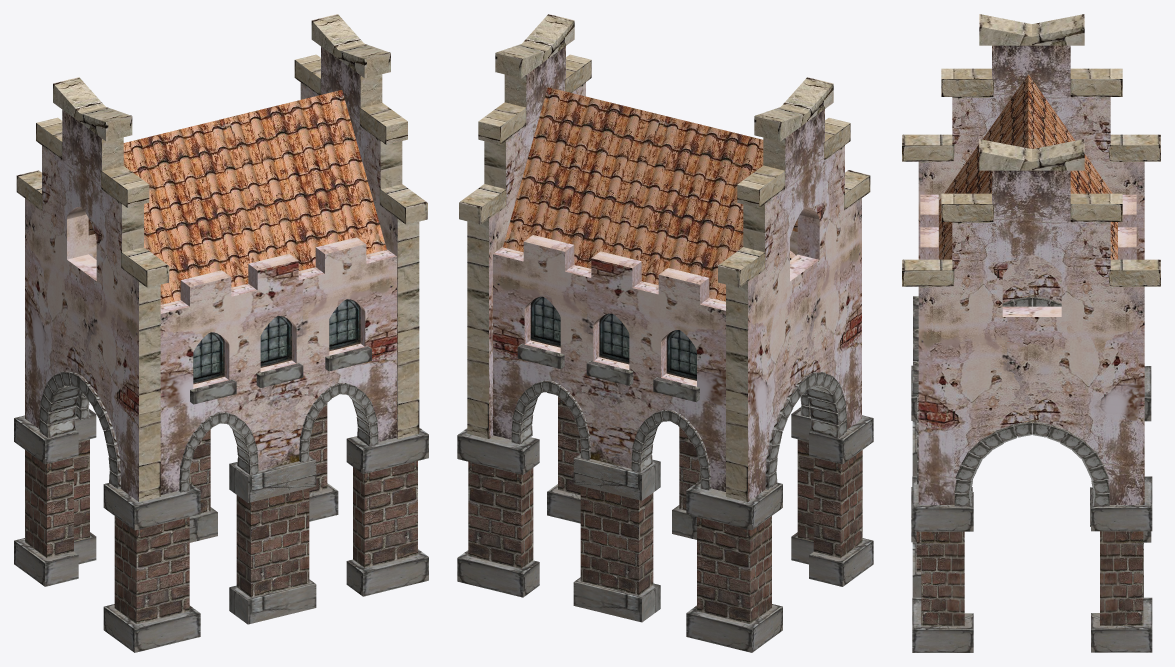
File: building5.FBX
3 renders of one model, left to right at view 1: azimuth 30°, elevation 25°; view 2: azimuth 150°, elevation 25°; view 3: azimuth 270°, elevation 25°, orthographic.
Parts seen in each view (by area): view 1: Object007; view 2: Object007; view 3: Object007.
Boxes of the visible parts, x1,y1,x2,y2 form: Object007: (14, 14, 428, 652); Object007: (457, 14, 873, 652); Object007: (902, 14, 1160, 652).
Size of the model in its own units: 215 by 351 by 165.
